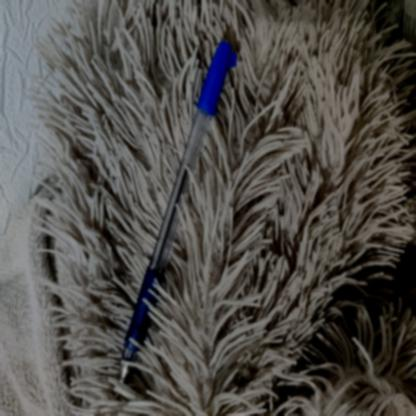Pen: (72, 33, 228, 404)
